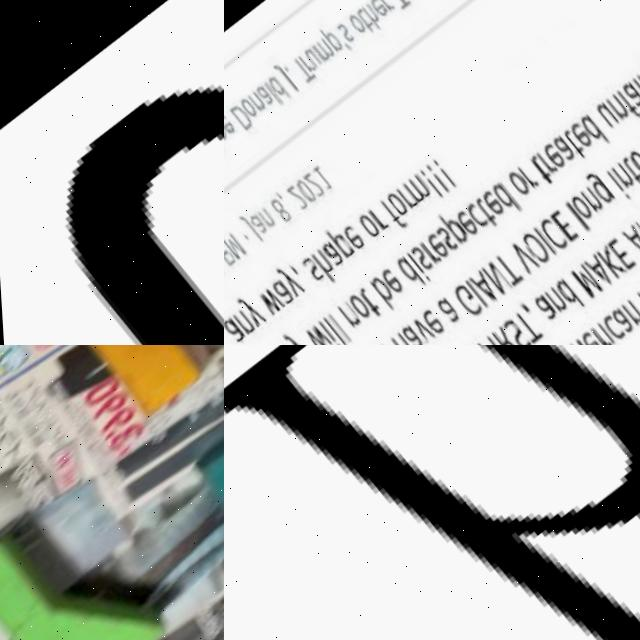0: (287, 176, 315, 205)
1: (306, 163, 331, 192)
2: (296, 168, 324, 198), (280, 182, 307, 213)
8: (263, 195, 290, 226)
H: (224, 345, 640, 640)
L: (29, 345, 224, 418)
U: (0, 0, 224, 345)
Y: (0, 484, 166, 640)
